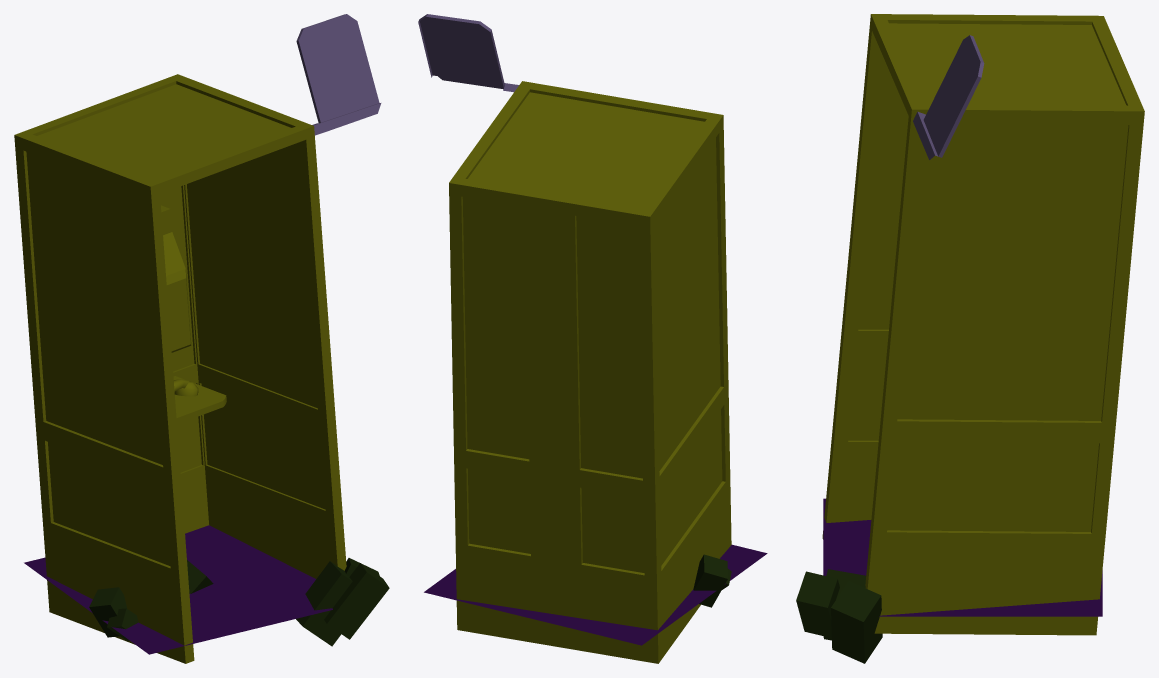
The model's file is Tile_Cabine (1).FBX.
3 views of the same model, side by side, from view 1: azimuth 30°, elevation 25°; view 2: azimuth 150°, elevation 25°; view 3: azimuth 270°, elevation 25° (orthographic). The views are drawn at different scales.
Visible parts, largest first — view 1: Group050, Box515, Cabine003, Box517, Box516; view 2: Group050, Box515, Box517, Cabine003, Box516; view 3: Group050, Box515, Box516, Cabine003, Box517.
Boxes of the visible parts, x1=… form: Group050: x1=26, y1=84, x2=325, y2=566; Box515: x1=14, y1=74, x2=346, y2=663; Cabine003: x1=24, y1=525, x2=332, y2=654; Box517: x1=296, y1=14, x2=381, y2=135; Box516: x1=89, y1=558, x2=389, y2=646; Group050: x1=462, y1=92, x2=722, y2=572; Box515: x1=449, y1=81, x2=731, y2=663; Box517: x1=418, y1=14, x2=518, y2=92; Cabine003: x1=424, y1=544, x2=767, y2=645; Box516: x1=693, y1=554, x2=731, y2=607; Group050: x1=848, y1=23, x2=1128, y2=531; Box515: x1=822, y1=14, x2=1144, y2=635; Box516: x1=796, y1=569, x2=882, y2=663; Cabine003: x1=823, y1=498, x2=1102, y2=616; Box517: x1=913, y1=35, x2=984, y2=159.
Bounding box in the file's own units: 2.69 × 5.04 × 2.5.
